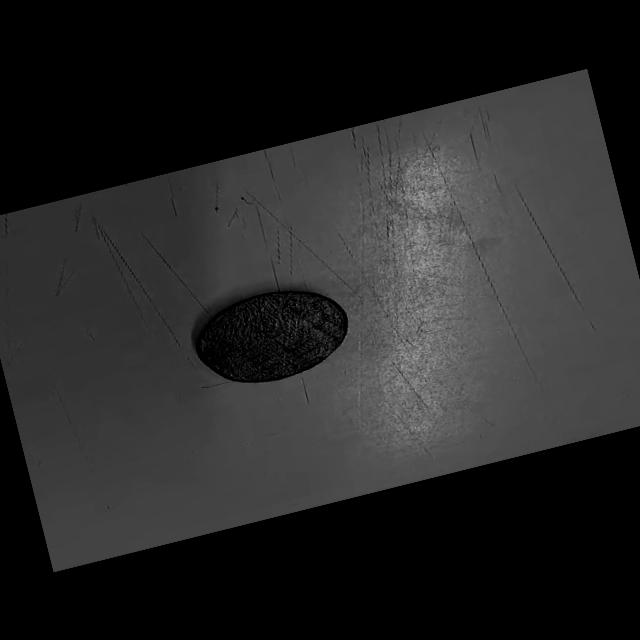rcircle: (195, 289, 348, 382)
